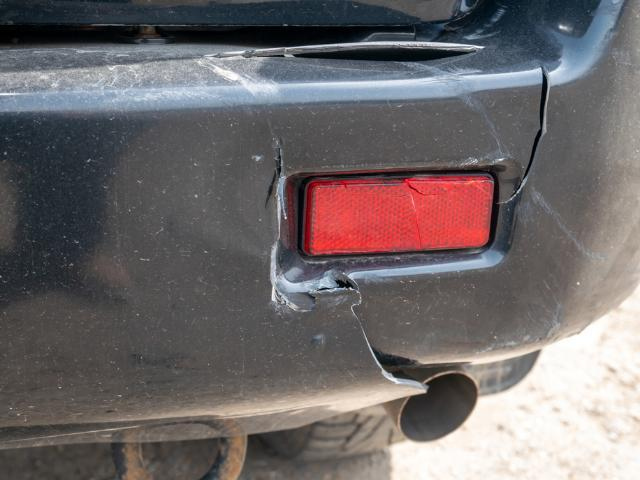Bumper: (78, 68, 640, 445)
